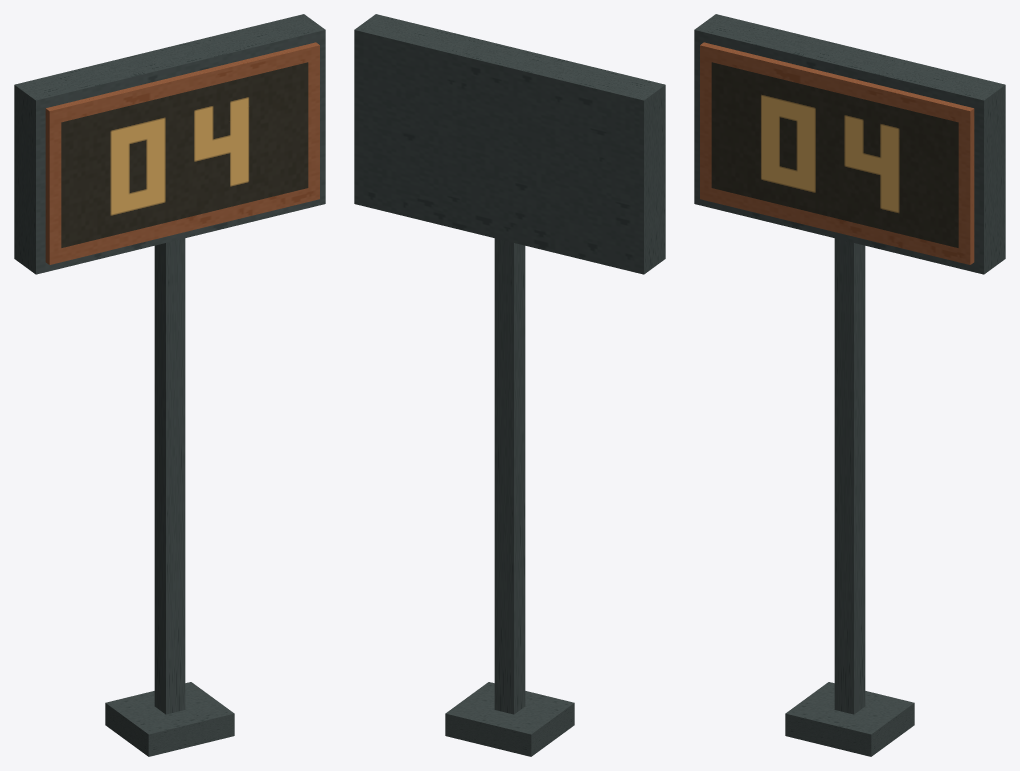
File: Sign04.fbx
3 views of the same model, side by side, from view 1: azimuth 30°, elevation 25°; view 2: azimuth 150°, elevation 25°; view 3: azimuth 330°, elevation 25° (orthographic).
Visible parts, largest first — view 1: Sign04; view 2: Sign04; view 3: Sign04.
Boxes of the visible parts, x1,y1,x2,y2 form: Sign04: (14, 14, 325, 756); Sign04: (354, 14, 665, 756); Sign04: (694, 14, 1005, 756).
Bounding box in the file's own units: 270 × 600 × 70.
